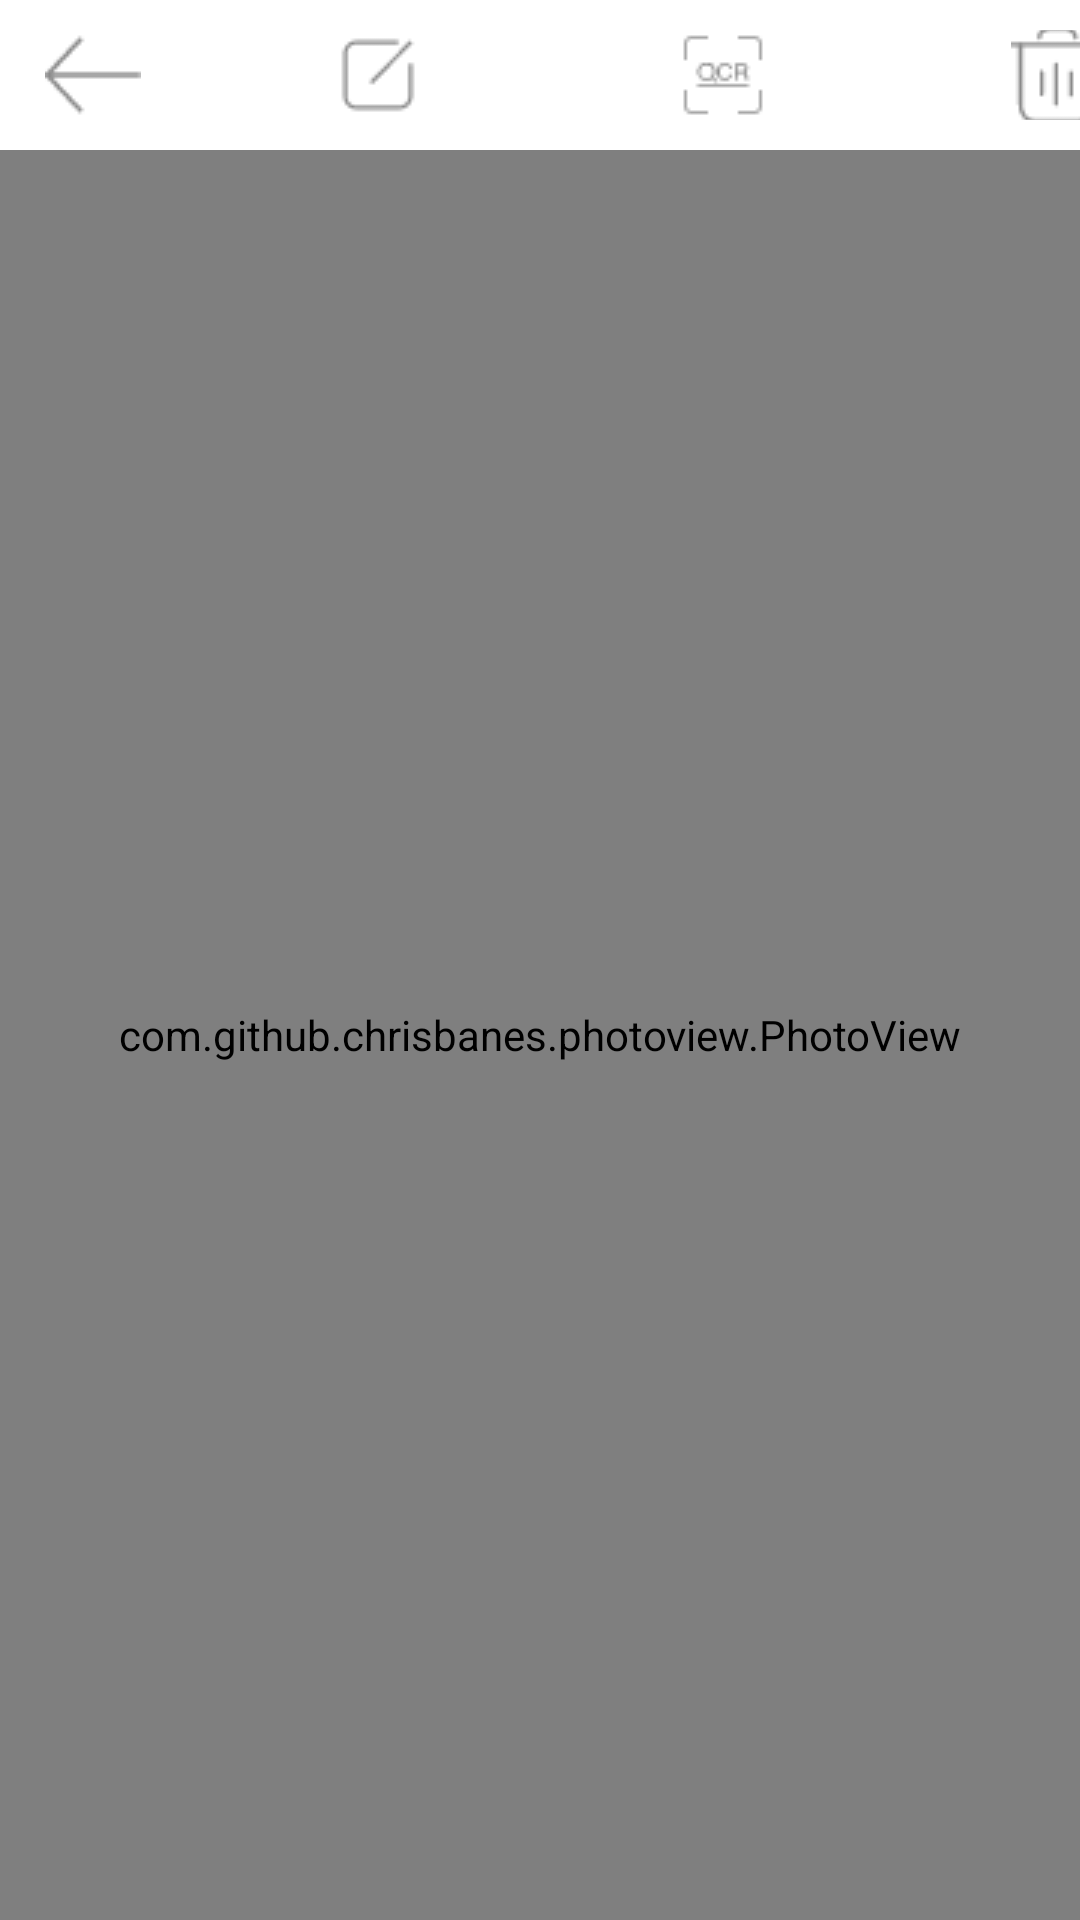

Named icons in this screenshot (1080w x 1920h) and their bounding boxes, [left=x1, top=y1, right=x2, bottom=y2]:
album back: [left=45, top=36, right=141, bottom=114]
album note: [left=342, top=39, right=414, bottom=111]
